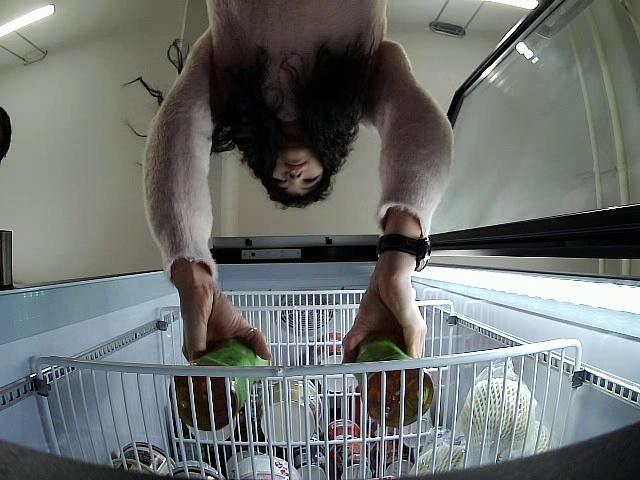19_17cha: (168, 340, 270, 431), (349, 332, 432, 427)
